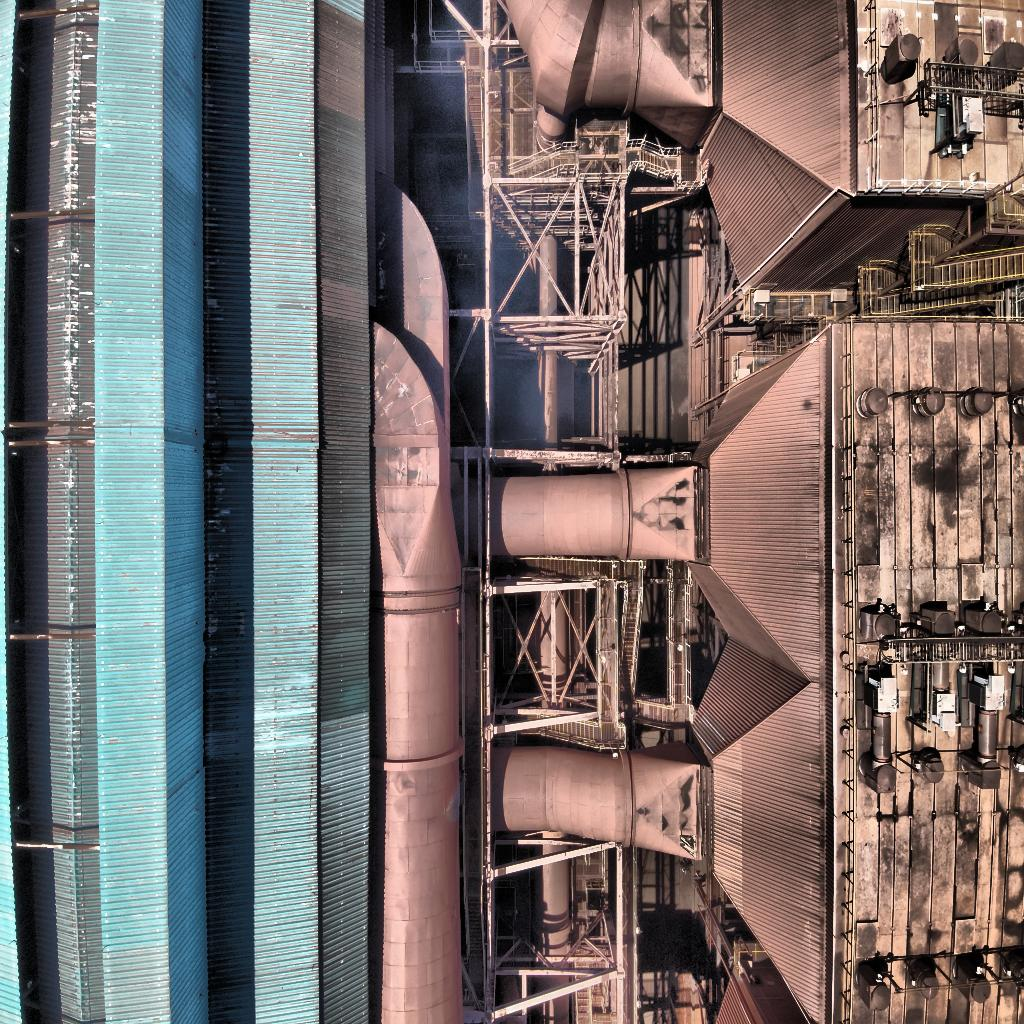Failures: (678, 834, 699, 860)
